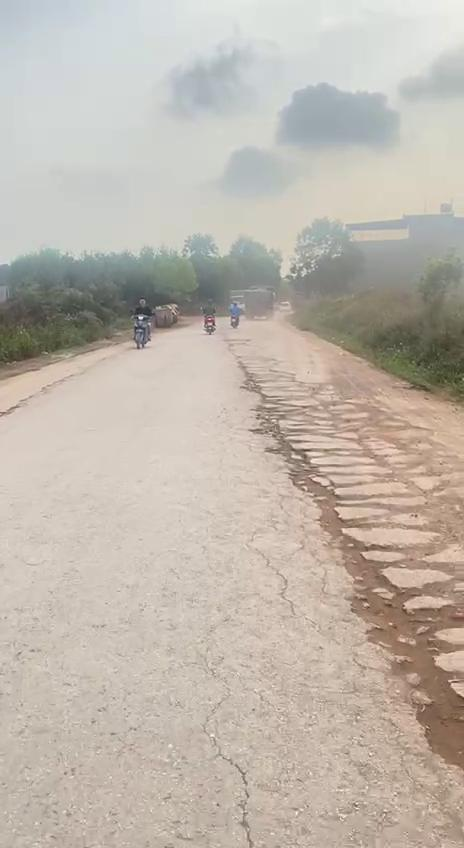pothole: (343, 590, 464, 766), (286, 457, 396, 598), (251, 400, 311, 470)
